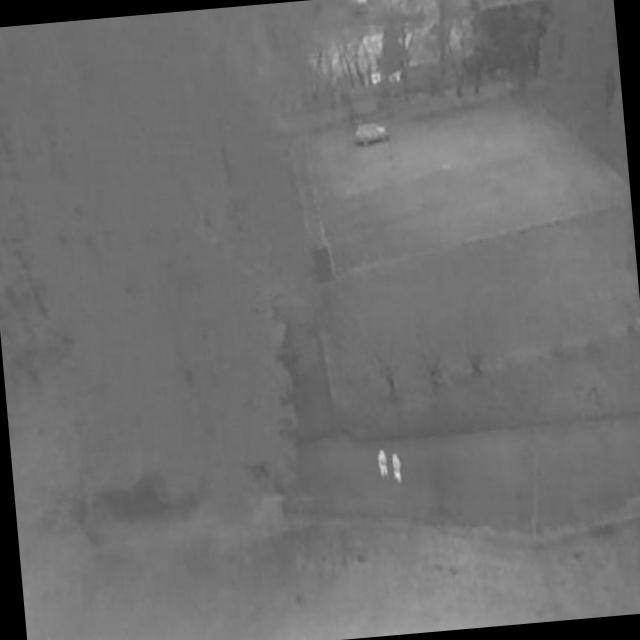person: (390, 453, 403, 486), (377, 450, 389, 479)
